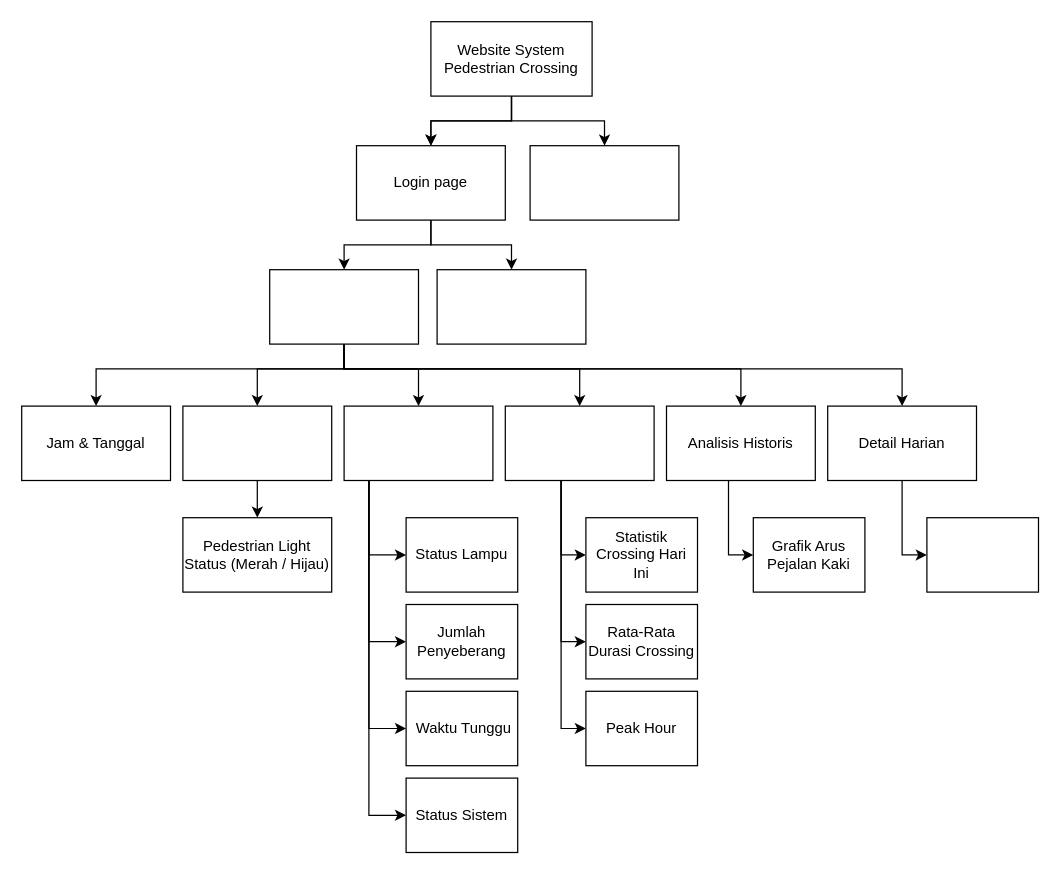
Image size: 1060x874. Some labels were removed from this diagram. The shapes that lost their labels are listed below. From the top down, each one's centre as x and y in pixels, then its label:
At [604,182]: "Lupa password".
At [343,306]: "Dashboard Admin".
At [511,306]: "Logout".
At [257,442]: "Live Camera Pedestrian".
At [418,442]: "Status Saat Ini".
At [579,442]: "Statistik Hari Ini".
At [982,554]: "Tabel Penyeberangan".
